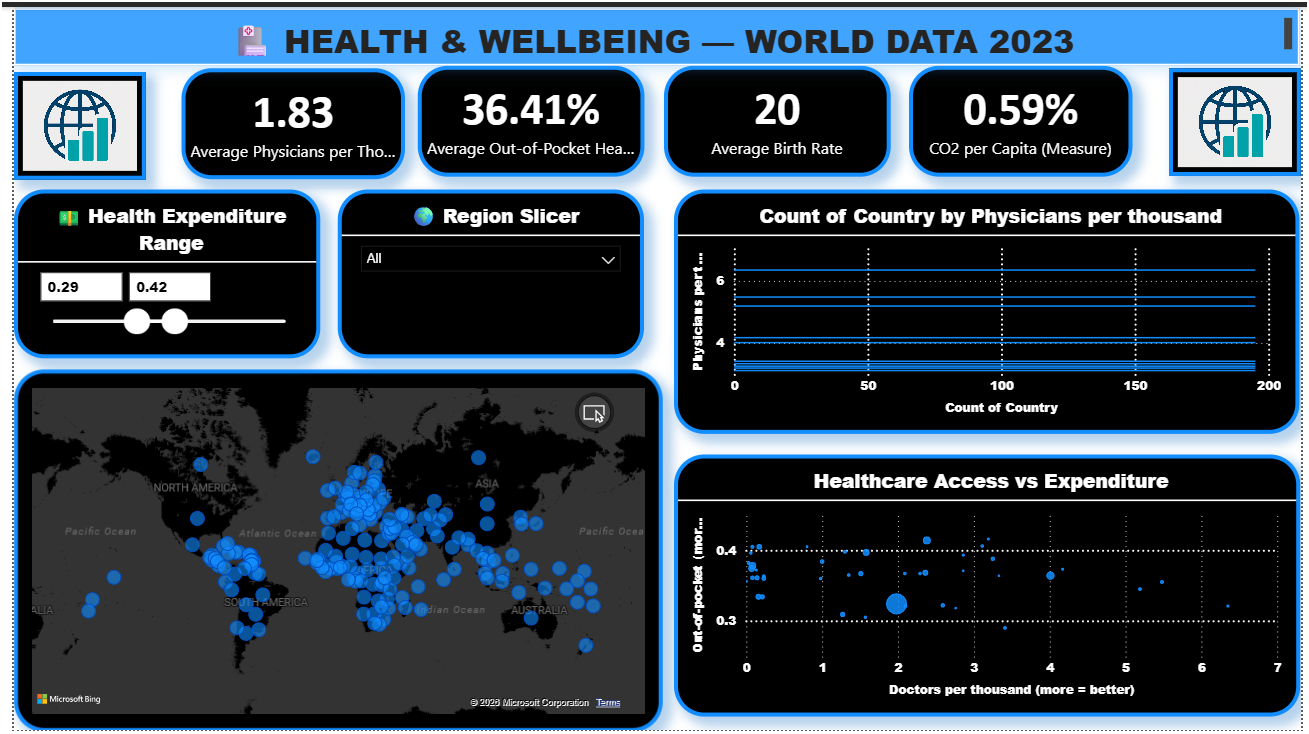

Layout of this report page (visuals, bound fields, positions):
{"tool":"powerbi","page":{"name":"Health & Wellbeing","canvas":[1280,720],"ordinal":2},"visuals":[{"type":"card","fields":{"Values":["Measure.Average Physicians per Thousand"]},"box":[167.2,61.2,222.4,110.4],"z":0},{"type":"card","fields":{"Values":["Measure.Average Out-of-Pocket Health Expenditure"]},"box":[401.5,58.2,225.4,110.4],"z":1000},{"type":"card","fields":{"Values":["Measure.Average Birth Rate"]},"box":[646.3,58.2,225.4,110.4],"z":2000},{"type":"card","fields":{"Values":["Measure.CO2 per Capita (Measure)"]},"box":[891,58.2,222.4,110.4],"z":3000},{"type":"map","title":"🌍 CO₂ per Capita by Country","fields":{"Category":["Dim_Country.Country"],"Y":["Avg(Dim_demographics.Latitude)"]},"box":[0,360.4,645.8,360.4],"z":4000},{"type":"barChart","fields":{"Category":["Fact_Table.Physicians per thousand"],"Y":["CountNonNull(Dim_Country.Country)"]},"box":[656.7,182.1,622.4,243.3],"z":5000},{"type":"scatterChart","title":"Healthcare Access vs Expenditure","fields":{"Category":["Dim_Country.Country"],"Size":["Sum(Fact_Table.Population)"],"X":["Sum(Fact_Table.Physicians per thousand)"],"Y":["Sum(Fact_Table.Out of pocket health expenditure)"]},"box":[656.2,445.8,622.9,260.4],"z":6000},{"type":"slicer","title":"🌍 Region Slicer","fields":{"Values":["Dim_Country.Capital/Major City"]},"box":[322.2,181.6,304.8,167.9],"z":7000},{"type":"slicer","title":"💵 Health Expenditure Range","fields":{"Values":["Fact_Table.Out of pocket health expenditure"]},"box":[0,181.6,304.8,167.9],"z":8000},{"type":"textbox","box":[0,1.5,1279.1,56.7],"z":8001},{"type":"image","box":[0,64.2,131.3,107.5],"z":8002},{"type":"image","box":[1149.3,61.2,131.3,107.5],"z":8003}]}

Visuals, with their boxes in screenshot pixels (x1, y1, x2, y2), scaled from the page's 1280x720 canvas onto the 1309x734 screenshot:
card - Measure.Average Physicians per Thousand: Rect(171, 62, 398, 175)
card - Measure.Average Out-of-Pocket Health Expenditure: Rect(411, 59, 641, 172)
card - Measure.Average Birth Rate: Rect(661, 59, 891, 172)
card - Measure.CO2 per Capita (Measure): Rect(911, 59, 1139, 172)
"🌍 CO₂ per Capita by Country" map: Rect(0, 367, 660, 733)
barChart - Fact_Table.Physicians per thousand x CountNonNull(Dim_Country.Country): Rect(672, 186, 1308, 434)
"Healthcare Access vs Expenditure" scatterChart: Rect(671, 454, 1308, 720)
"🌍 Region Slicer" slicer: Rect(329, 185, 641, 356)
"💵 Health Expenditure Range" slicer: Rect(0, 185, 312, 356)
textbox: Rect(0, 2, 1308, 59)
image: Rect(0, 65, 134, 175)
image: Rect(1175, 62, 1308, 172)
